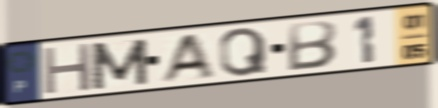1: (352, 14, 378, 65)
A: (157, 31, 218, 86)
B: (285, 18, 340, 73)
H: (41, 41, 94, 97)
M: (88, 36, 151, 92)
Q: (217, 25, 270, 79)
